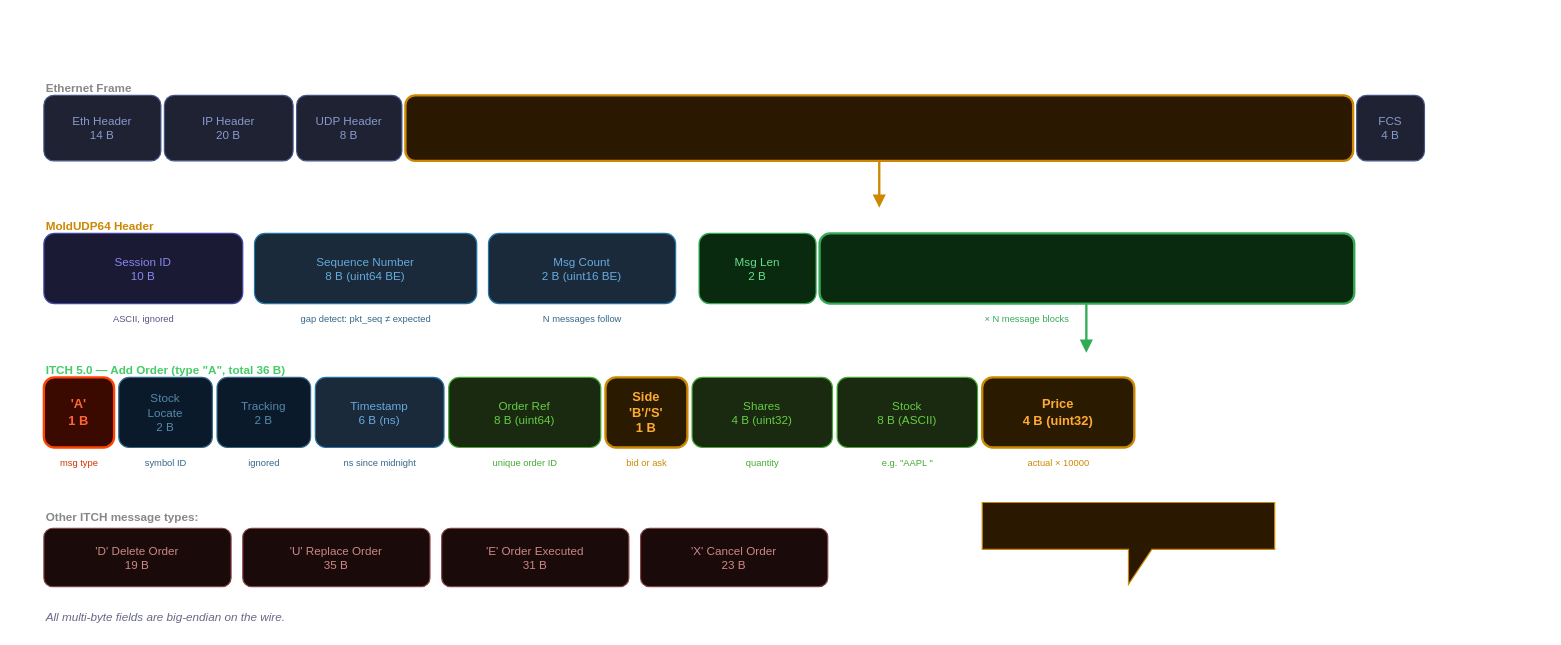
Image size: 1561x645. Some labels were removed from this diagram. Here are the shapes that lost their labels. From the top down, the centre of each, then its label:
point 879,127: MoldUDP64 Payload (20-byte header + message blocks)
point 1086,268: ITCH Message Body (repeated per message)
point 1128,542: Price example: $123.45 → 1,234,500 → 0x0012D484
